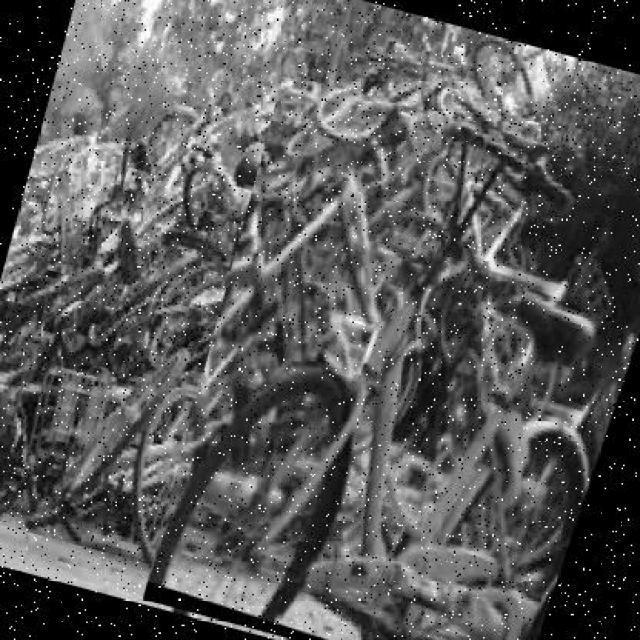bicycle: (140, 74, 640, 640)
